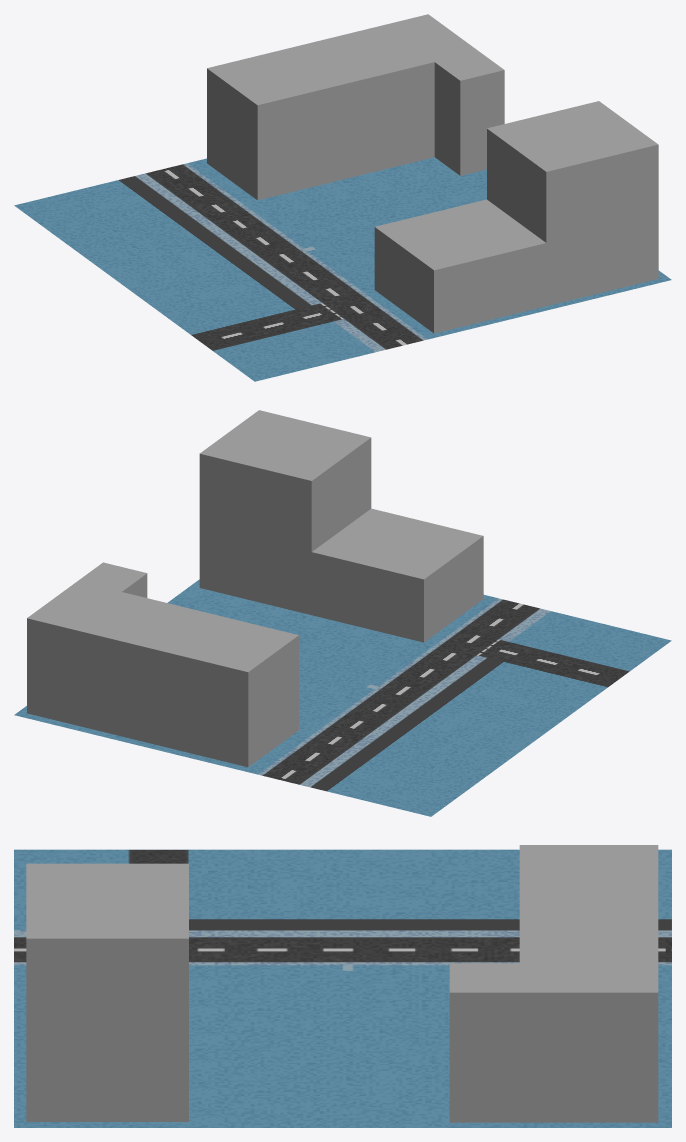
Rendered from placeholder_decor_street_obj_01.fbx.
The picture shows the model from 3 angles, top to bottom: view 1: azimuth 30°, elevation 25°; view 2: azimuth 150°, elevation 25°; view 3: azimuth 270°, elevation 25°; orthographic projection. The views are drawn at different scales.
Parts seen in each view (by area): view 1: pPlane1, pCube1, pCube2; view 2: pPlane1, pCube1, pCube2; view 3: pPlane1, pCube2, pCube1.
Boxes of the visible parts, x1,y1,x2,y2 form: pPlane1: (14,157,671,381); pCube1: (374,101,658,333); pCube2: (207,14,504,200); pPlane1: (14,579,671,816); pCube1: (199,410,483,642); pCube2: (27,562,298,767); pPlane1: (14,849,671,1127); pCube2: (449,845,658,1122); pCube1: (26,863,188,1121).
Bounding box in the file's own units: 44.58 × 14.14 × 44.58.
